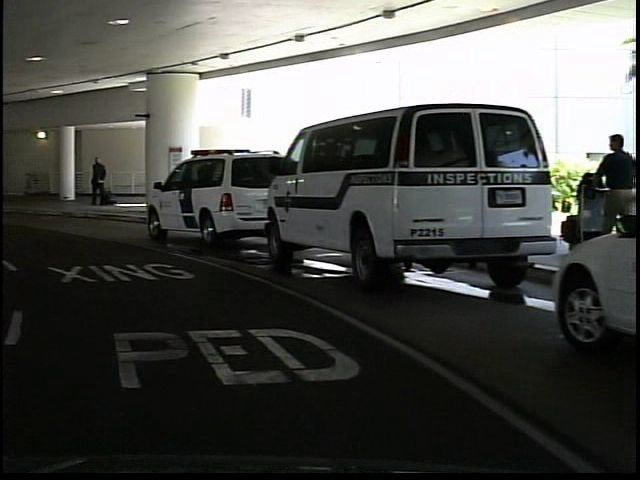person: (588, 128, 630, 266), (84, 153, 109, 212)
